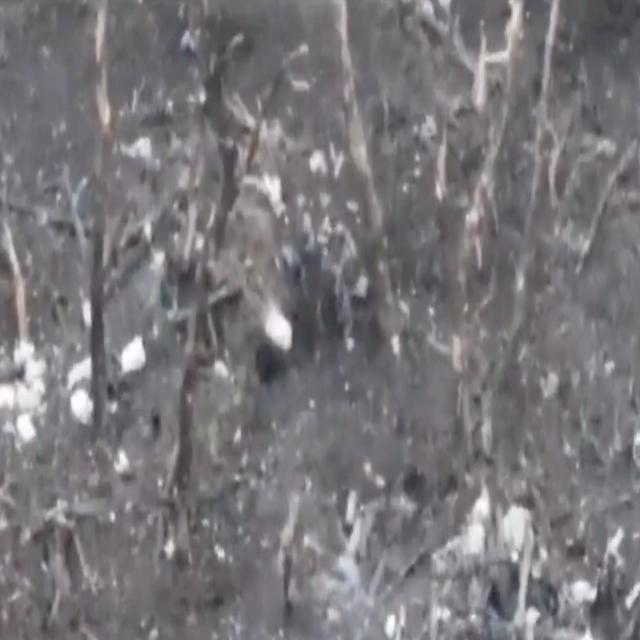vehicle: (280, 221, 355, 346)
